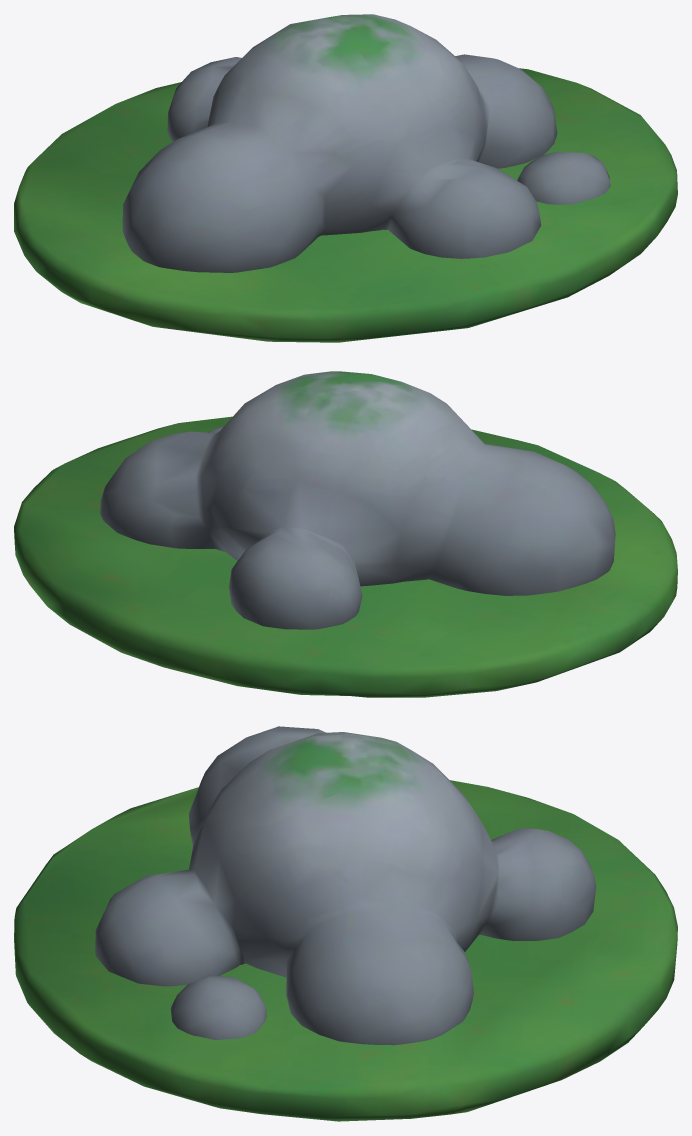
The model's file is rock-cluster.glb.
The picture shows the model from 3 angles, top to bottom: view 1: azimuth 30°, elevation 25°; view 2: azimuth 150°, elevation 25°; view 3: azimuth 270°, elevation 25°; orthographic projection. The views are drawn at different scales.
Parts seen in each view (by area): view 1: stones; view 2: stones; view 3: stones.
Boxes of the visible parts, bbox=[...] form: stones: bbox=[14, 14, 677, 342]; stones: bbox=[14, 371, 677, 697]; stones: bbox=[14, 726, 677, 1121].
Size of the model in its own units: 1.1 by 0.3335 by 0.948.
Materials: 1 (1 with a texture image).
